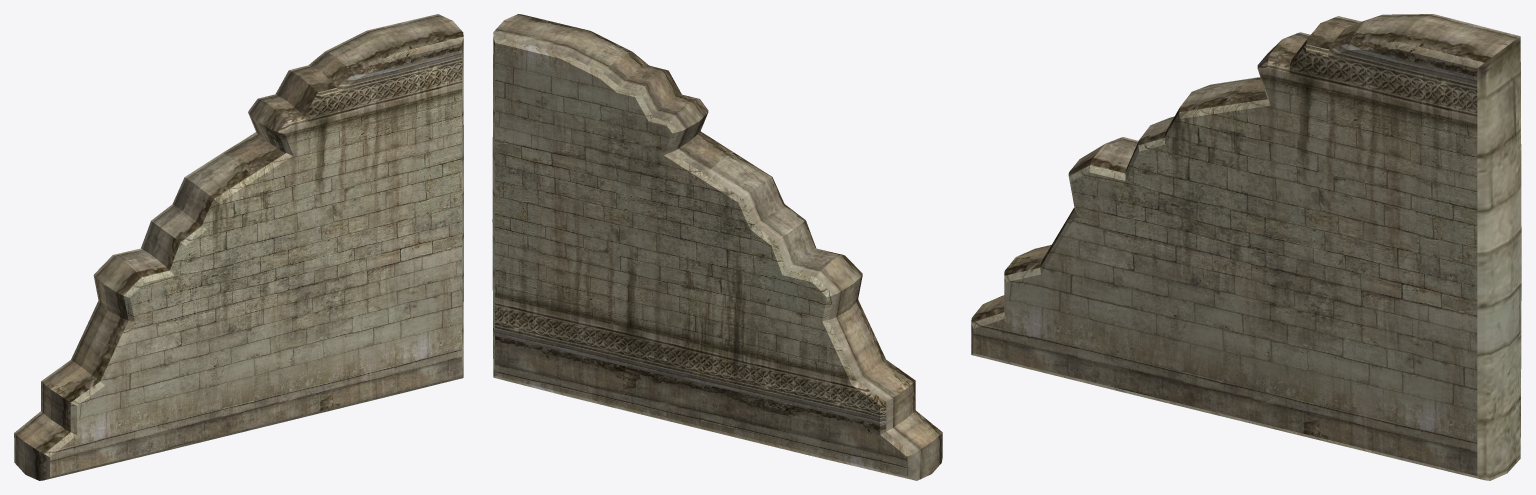
The model's file is TW2_5_ADDON_10_12-transformed.glb.
3 renders of one model, left to right at view 1: azimuth 30°, elevation 25°; view 2: azimuth 150°, elevation 25°; view 3: azimuth 330°, elevation 25°, orthographic. The views are drawn at different scales.
Parts seen in each view (by area): view 1: default; view 2: default; view 3: default.
Boxes of the visible parts, <box> form: default: <box>14,14,463,480</box>; default: <box>492,14,942,480</box>; default: <box>971,14,1521,480</box>.
Size of the model in its own units: 5.42 by 4.26 by 0.7356.
1 material, 1 textured.
